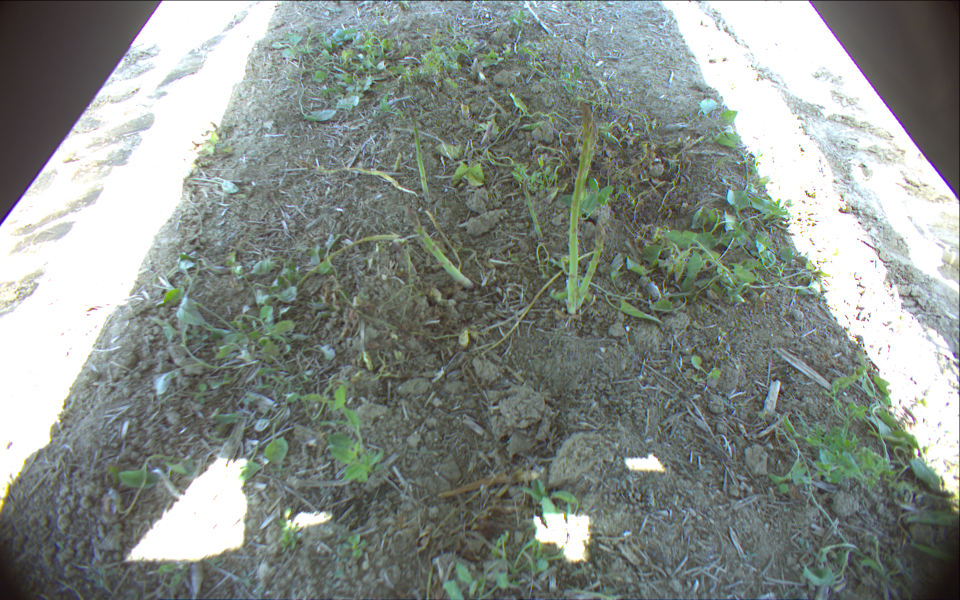aspa: (565, 99, 594, 316), (405, 218, 475, 290), (576, 224, 607, 315), (323, 169, 416, 193), (407, 106, 429, 194), (581, 115, 599, 205), (520, 169, 542, 240)
